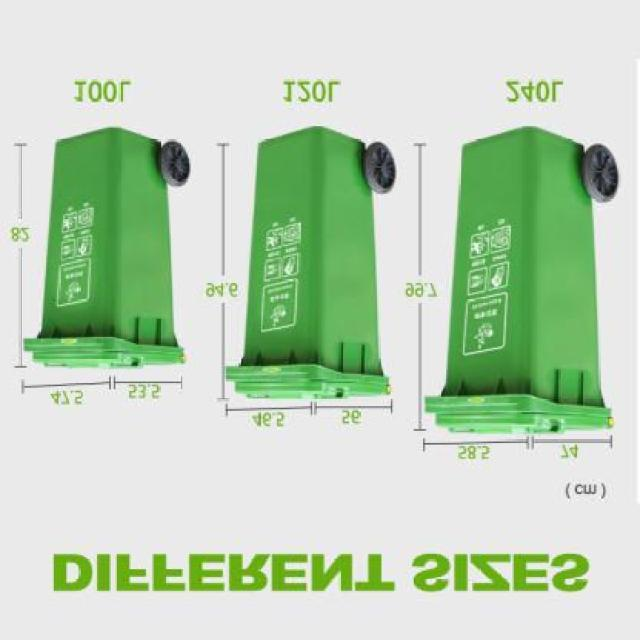garbage container: (423, 117, 628, 437)
